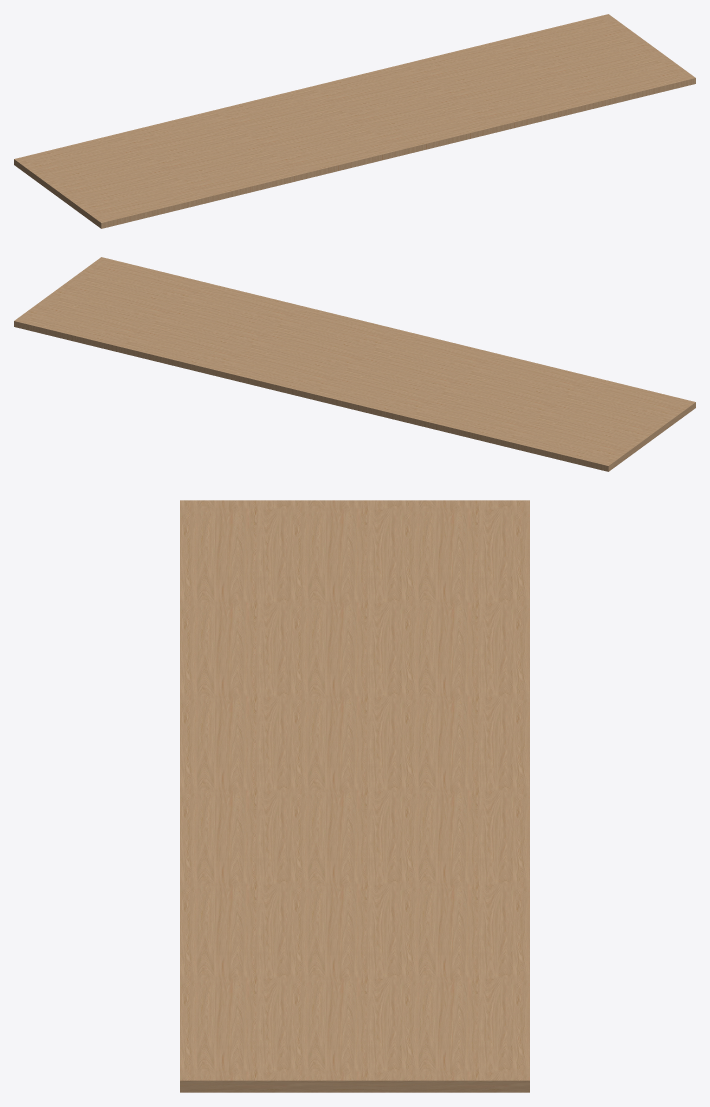
Rendered from CounterTopWood.glb.
The picture shows the model from 3 angles, top to bottom: view 1: azimuth 30°, elevation 25°; view 2: azimuth 150°, elevation 25°; view 3: azimuth 270°, elevation 25°; orthographic projection. The views are drawn at different scales.
Parts seen in each view (by area): view 1: Counter Wood; view 2: Counter Wood; view 3: Counter Wood.
Part boxes in pixels (<box>): Counter Wood: <box>14,14,695,228</box>; Counter Wood: <box>14,257,695,471</box>; Counter Wood: <box>180,500,529,1092</box>.
Size of the model in its own units: 1.06 by 0.01 by 0.27.
Materials: 1 (1 with a texture image).
